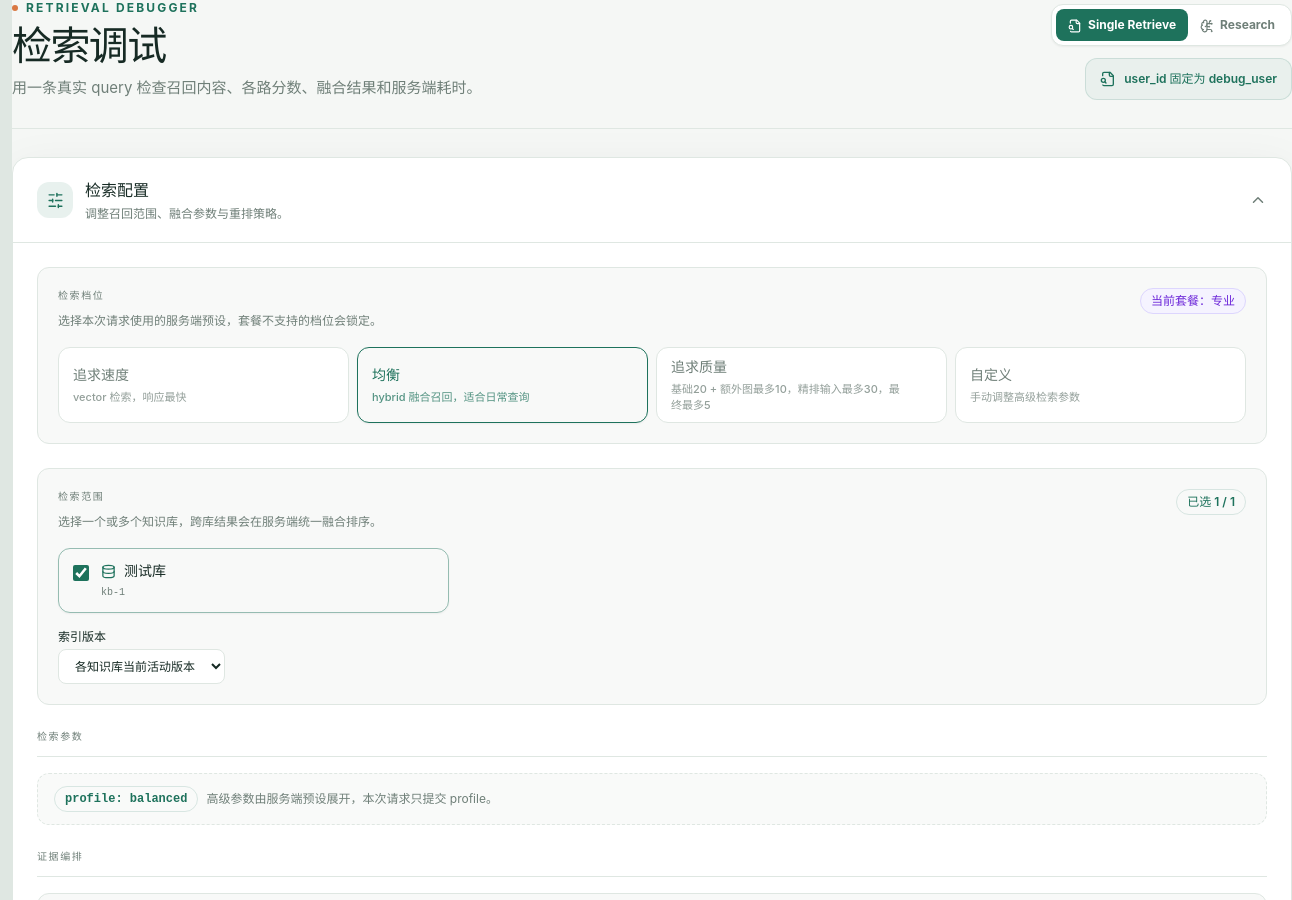
Test: RetrievePage research mode › does not invent a supplement reason when there is no second round
Expected: the checkbox named "选择 测试库" is shown, [73,565,89,581]
Click the tab "Research" at (1238, 25), box [1188,9,1287,41]
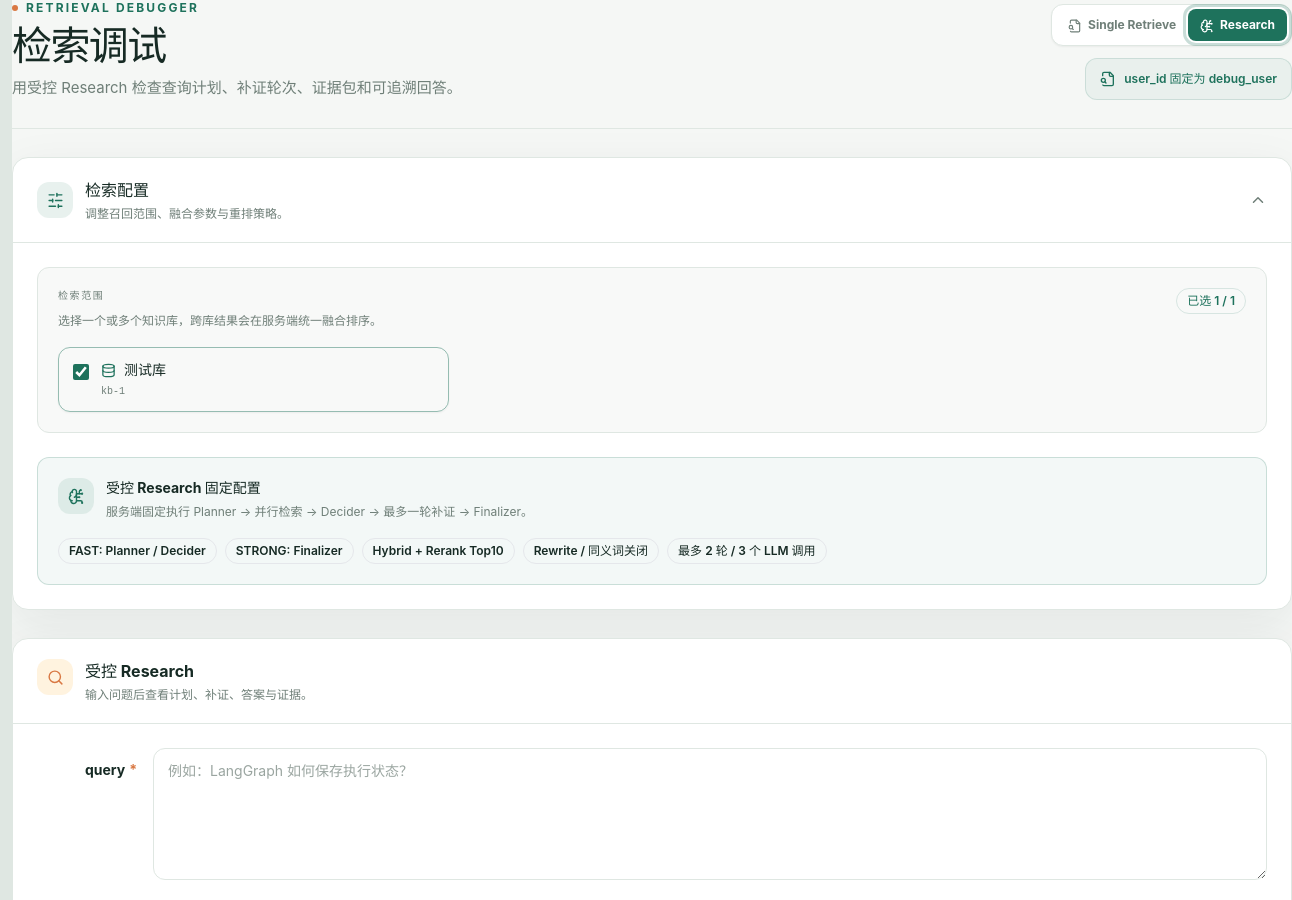
Type "first question" into the text box with placeholder "例如：LangGraph 如何保存执行状态？" at (710, 814), box [153,748,1267,880]
(page scrolled)
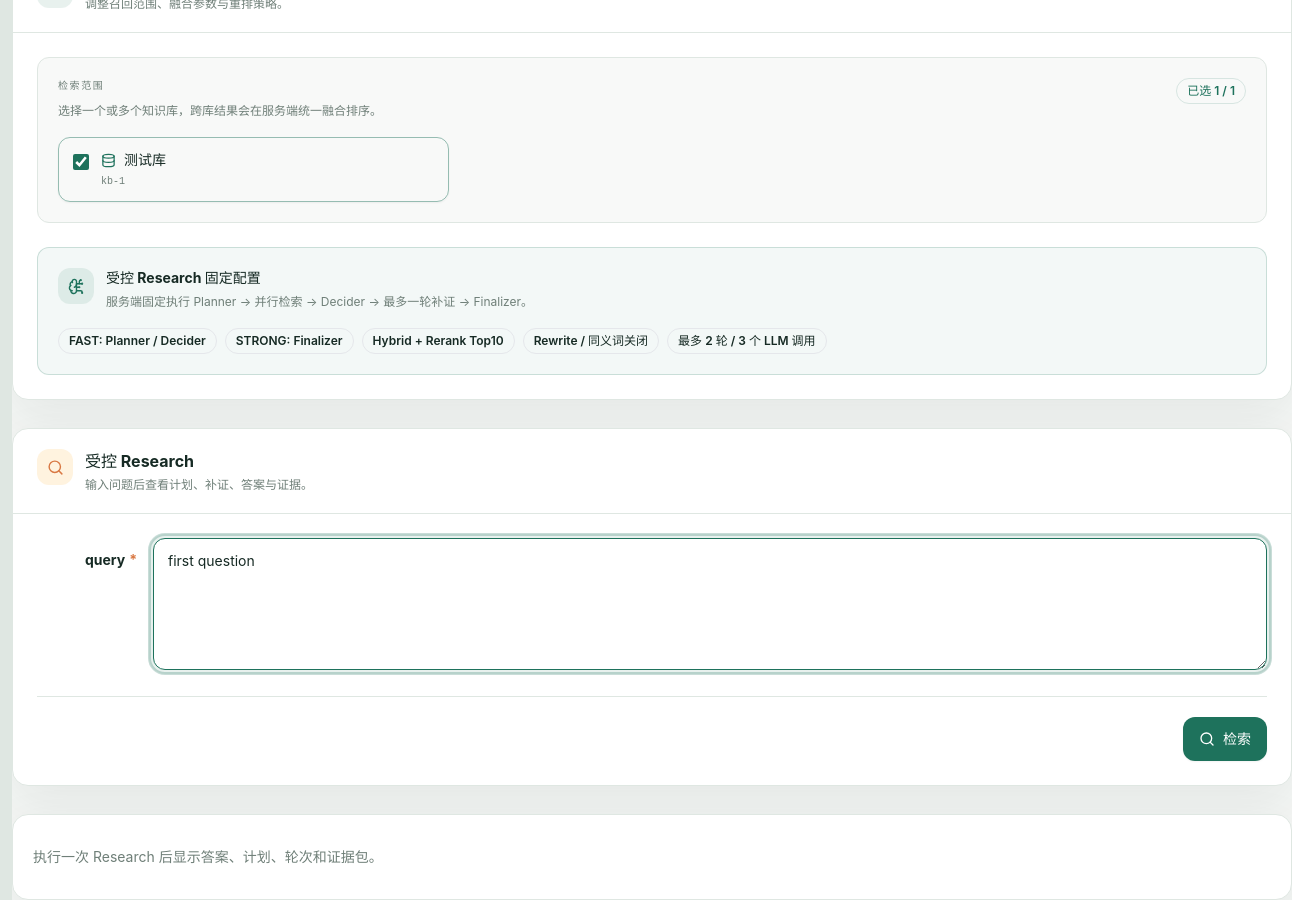
Click the button "检索" at (1225, 739), box [1183,717,1267,761]
(page scrolled)
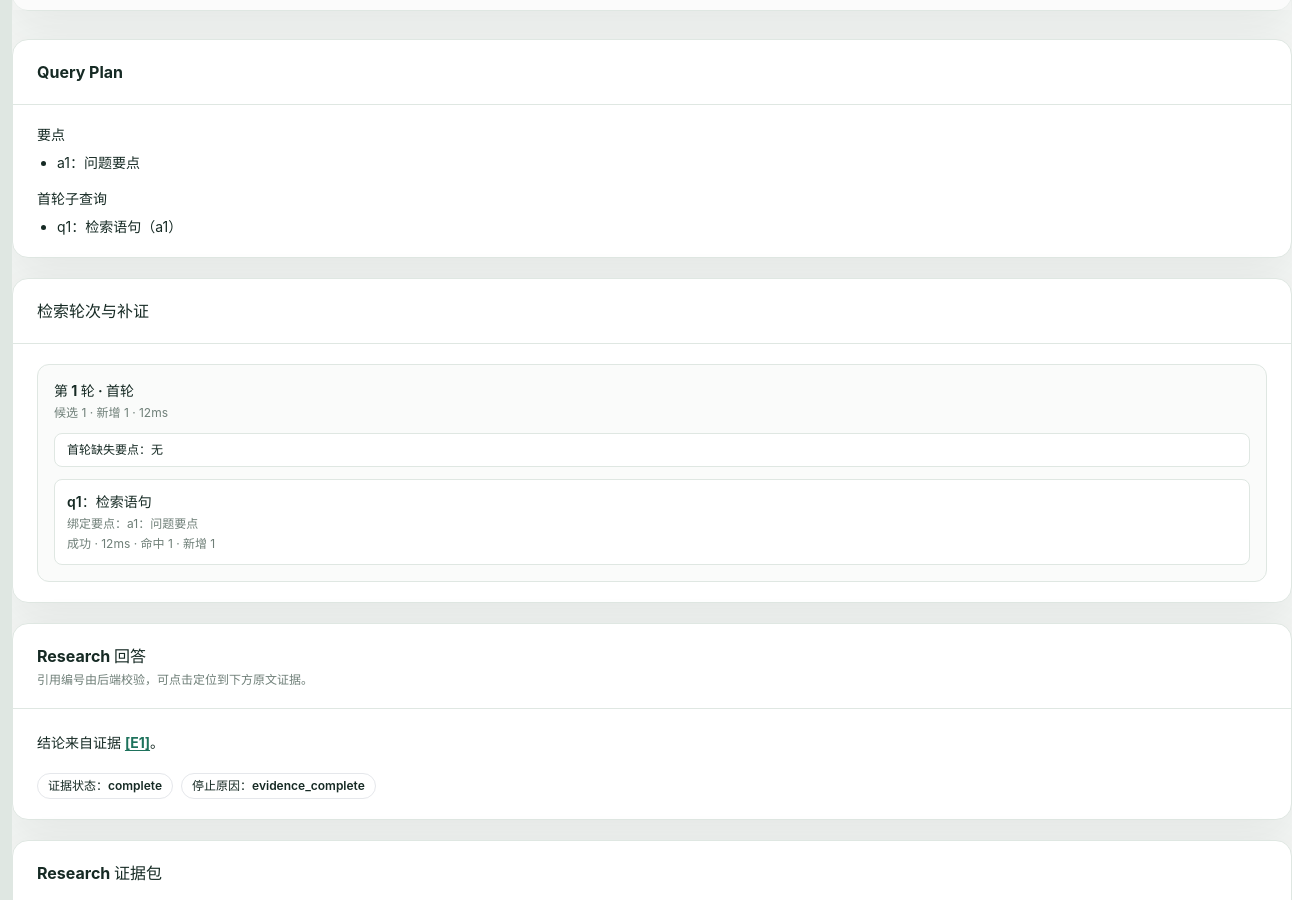
Expected: the element with test id "research-first-round-missing" reads "首轮缺失要点：无", [54,433,1250,467]
